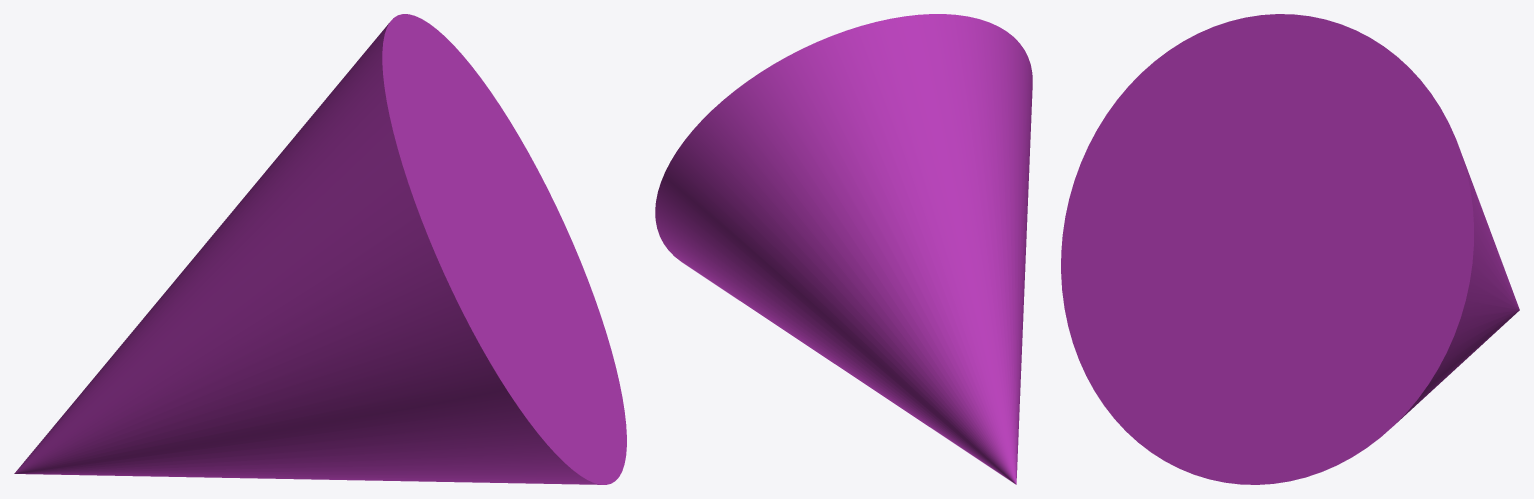
Rendered from magenta-cone.glb.
3 renders of one model, left to right at view 1: azimuth 30°, elevation 25°; view 2: azimuth 150°, elevation 25°; view 3: azimuth 270°, elevation 25°, orthographic. The views are drawn at different scales.
Parts seen in each view (by area): view 1: mesh_id96; view 2: mesh_id96; view 3: mesh_id96.
Part boxes in pixels (left/top/right/bottom): mesh_id96: left=14, top=14, right=626, bottom=484; mesh_id96: left=655, top=14, right=1032, bottom=484; mesh_id96: left=1061, top=14, right=1519, bottom=484.
Size of the model in its own units: 0.1727 by 0.1449 by 0.1473.
Materials: 1 (1 with a texture image).
